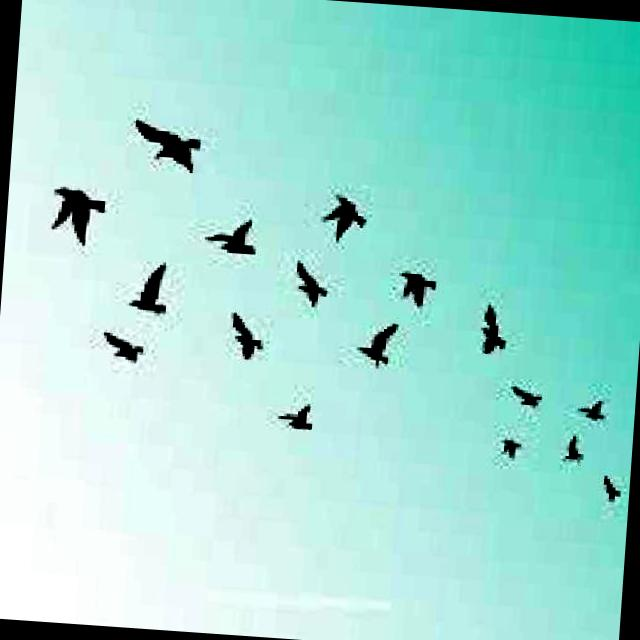bird: (46, 176, 111, 248), (134, 112, 200, 171), (202, 207, 268, 262), (352, 316, 410, 372), (468, 296, 517, 362), (126, 258, 179, 317), (319, 186, 369, 248), (286, 252, 338, 310), (385, 262, 442, 314), (224, 309, 270, 364), (499, 373, 554, 418), (584, 463, 630, 515), (94, 326, 147, 370), (554, 419, 596, 470), (280, 396, 318, 442), (486, 428, 530, 464), (572, 392, 610, 429)
